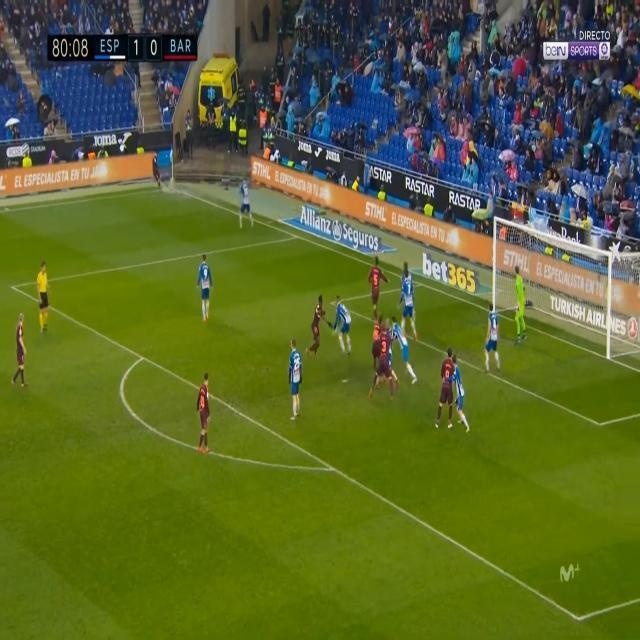ball: (169, 178, 176, 197)
goalkeeper: (508, 265, 531, 347)
player: (282, 332, 304, 427), (10, 309, 31, 397), (306, 284, 330, 361), (193, 368, 213, 460), (390, 311, 416, 381), (363, 253, 388, 325), (331, 289, 356, 358), (438, 342, 456, 437), (450, 353, 470, 435), (233, 171, 258, 236), (483, 295, 502, 380), (195, 249, 215, 325), (376, 320, 395, 397), (399, 270, 418, 337), (152, 149, 166, 195)
referee: (34, 259, 57, 336)
